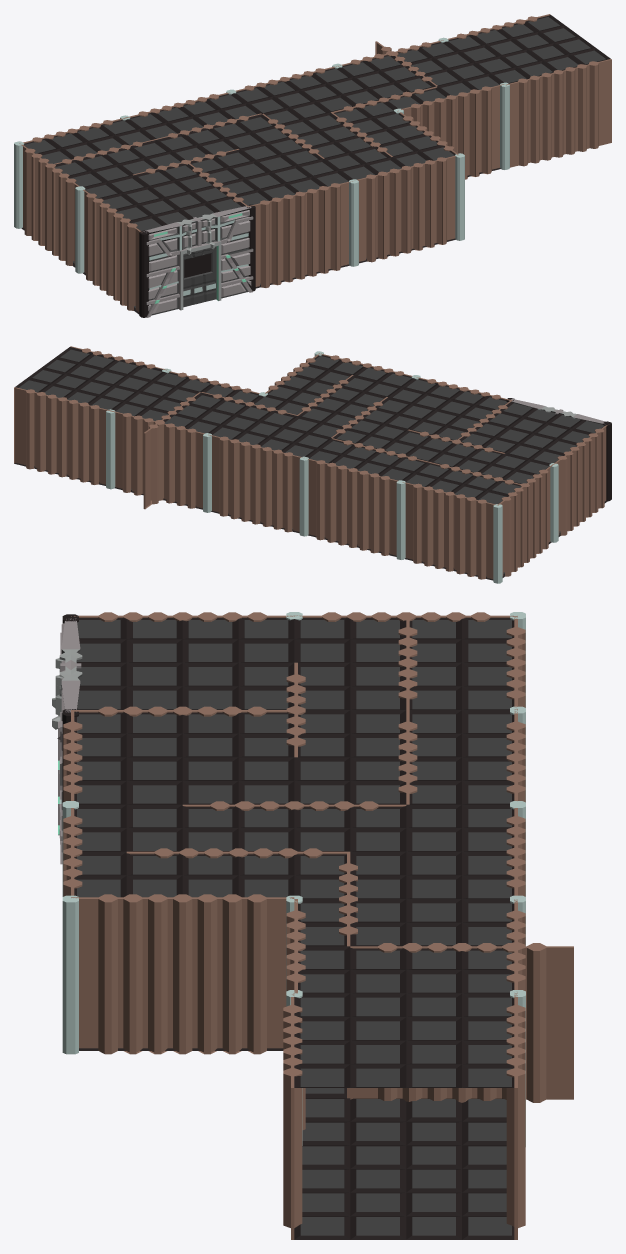
Rendered from room3.fbx.
3 views of the same model, one above another, from view 1: azimuth 30°, elevation 25°; view 2: azimuth 150°, elevation 25°; view 3: azimuth 270°, elevation 25° (orthographic). The views are drawn at different scales.
Parts seen in each view (by area): view 1: ugly pillar.018, ugly pillar.026; view 2: ugly pillar.018, ugly pillar.026; view 3: ugly pillar.018, ugly pillar.026.
Part boxes in pixels (x1,y1,x2,y2): ugly pillar.018: [14, 14, 611, 314]; ugly pillar.026: [139, 204, 255, 317]; ugly pillar.018: [14, 346, 607, 583]; ugly pillar.026: [506, 398, 611, 501]; ugly pillar.018: [62, 612, 573, 1239]; ugly pillar.026: [52, 614, 82, 864].
Size of the model in its own units: 2015 by 301 by 934.
